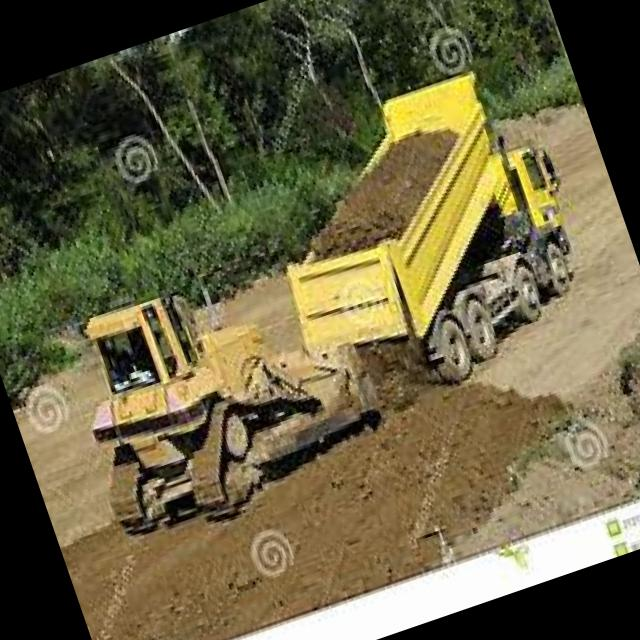Bulldozer: (34, 220, 402, 559)
Dump Truck: (240, 49, 612, 427)
